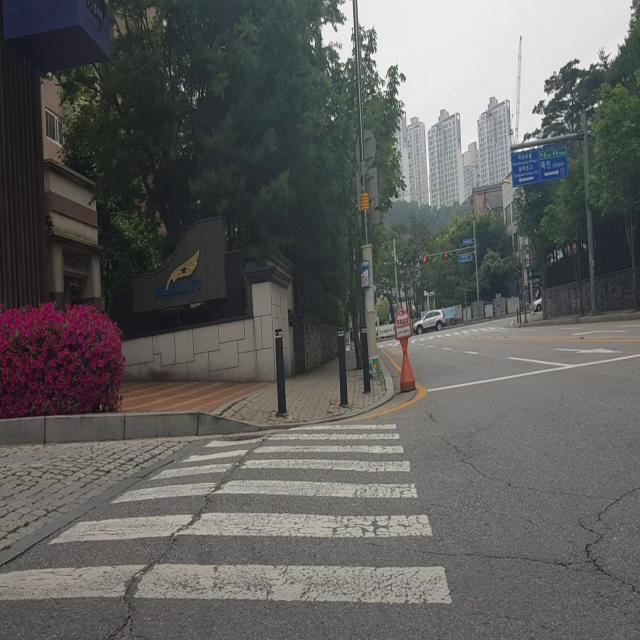횡단보도: (0, 420, 456, 607), (381, 325, 509, 347)
